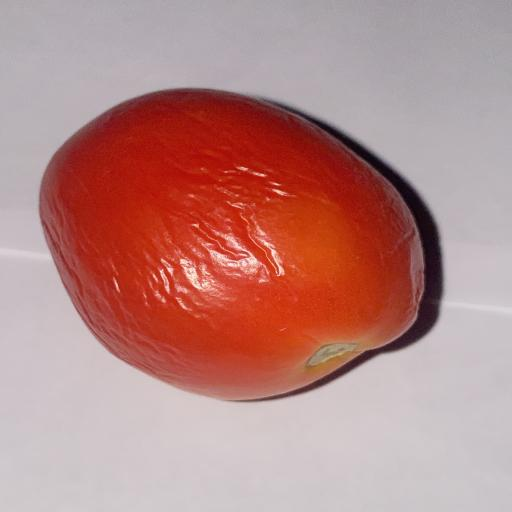spoiled: (40, 89, 424, 400), (40, 89, 423, 400)
